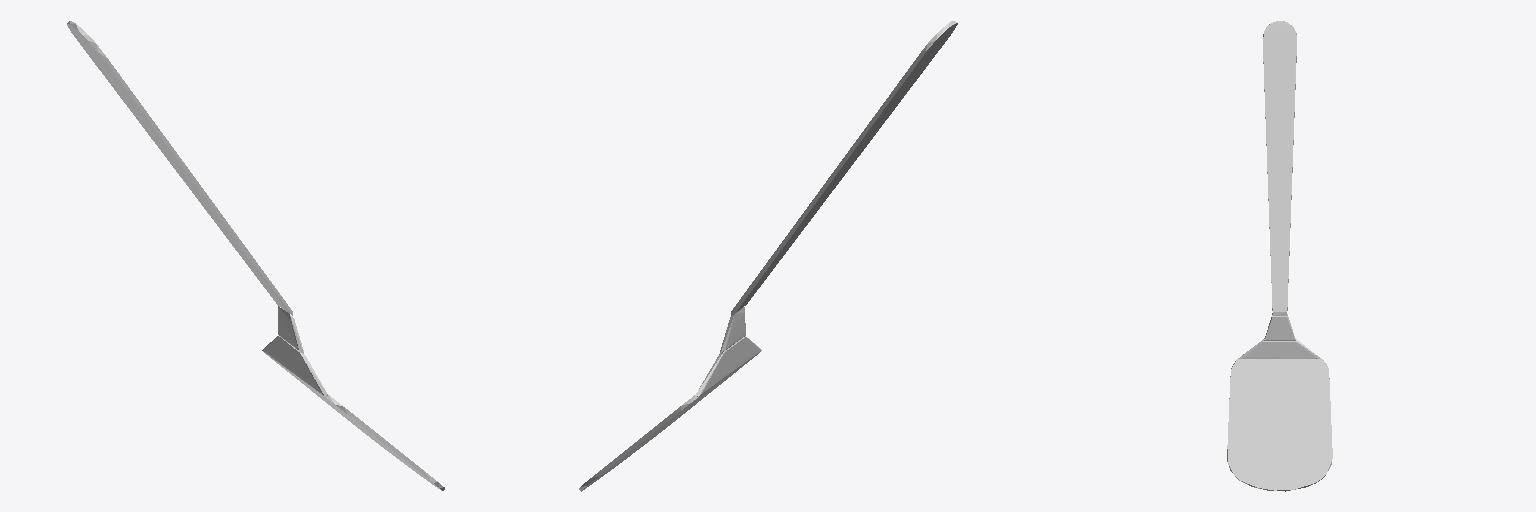
robot.urdf — spatula.urdf:
<?xml version="0.0" ?>
<robot name="spatula.urdf">
  <link name="spatula">
    <visual>
      <origin rpy="0.7854 0 -1.5708" xyz="0 0 0.2"/>
      <geometry>
        <mesh filename="spatula.obj" scale="0.4 0.4 0.4"/>
      </geometry>
      <material name="grey">
        <color rgba="0.85 0.85 0.85 1.0"/>
      </material>
    </visual>
    <inertial>
      <origin rpy="0.7854 0 -1.5708" xyz="0 -0 0.2"/>
      <mass value="0.1"/>
      <inertia ixx="1" ixy="0" ixz="0" iyy="1" iyz="0" izz="1"/>
    </inertial>
    <collision>
      <origin rpy="0.7854 0 -1.5708" xyz="0 0 0.2"/>
      <geometry>
  	<mesh filename="spatula.obj" scale="0.4 0.4 0.4"/>
      </geometry>
    </collision>
  </link>
</robot>

--- Render facts (derived) ---
3 views of the same robot in one strip: view 1: azimuth 30°, elevation 25°; view 2: azimuth 150°, elevation 25°; view 3: azimuth 270°, elevation 25° (orthographic).
Robot: spatula.urdf — 1 links, 0 joints (none); root link spatula; default pose: all joints at 0.
Visible links, largest first — view 1: spatula; view 2: spatula; view 3: spatula.
Link boxes in pixels (bbox=[...]): spatula: bbox=[67, 21, 444, 490]; spatula: bbox=[579, 21, 957, 491]; spatula: bbox=[1227, 21, 1332, 491].
Bounding box of the posed robot: 0.2215 × 0.0862 × 0.3239 m (x, y, z).
Meshes: 1 distinct files referenced, 1 mesh visuals loaded (1 OBJ).
